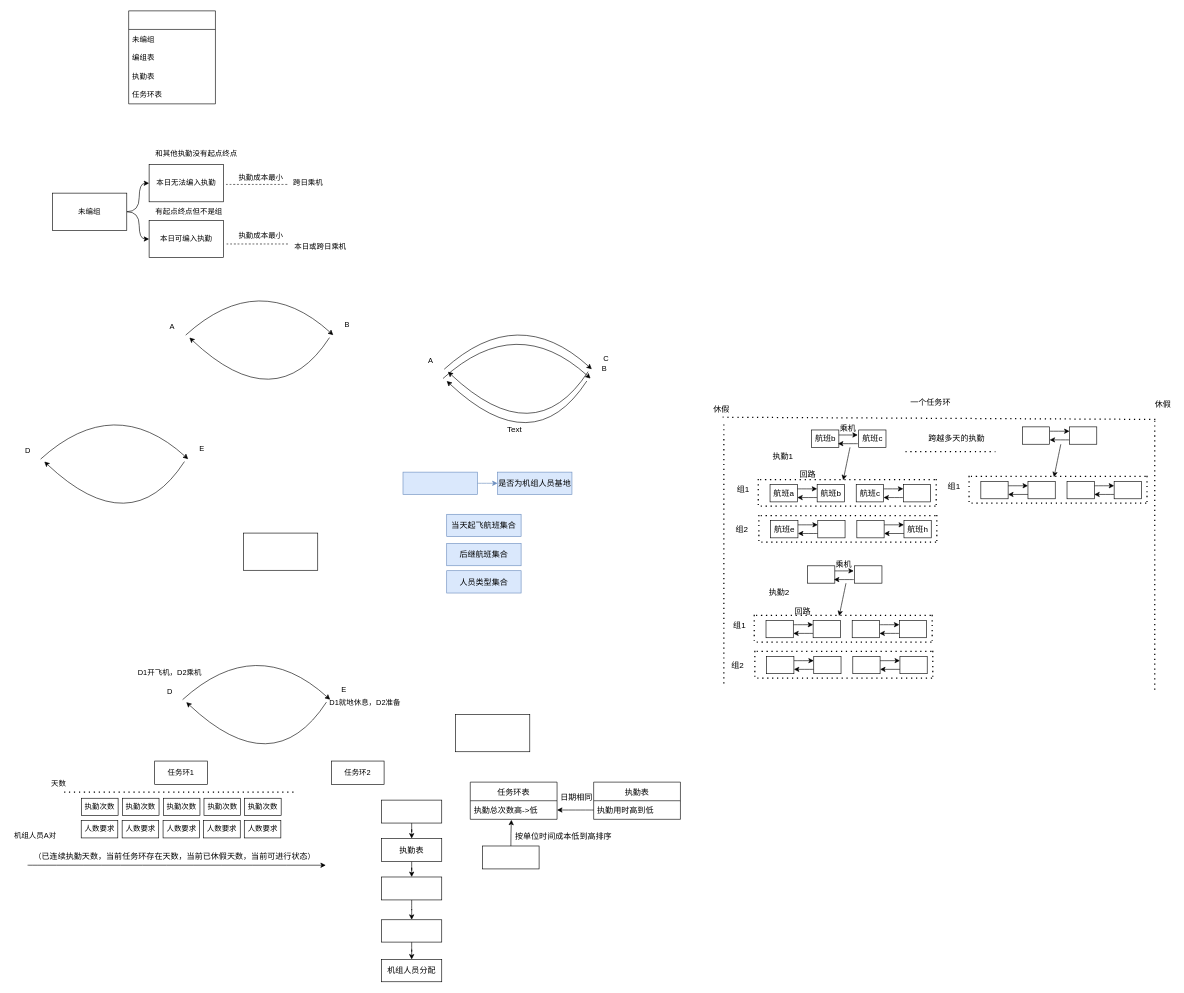
Image size: 1184x993. Some labels were removed from this diagram. The shapes that lost their labels are listed below. From the top down, each one's box as (x1, y1, x2, y2) in pixels, then its label:
(128, 10, 215, 104): D天内每天
(402, 472, 477, 494): 航班的降落机场
(903, 484, 931, 502): 航班d
(817, 520, 845, 538): 航班f
(856, 520, 884, 538): 航班g
(381, 799, 442, 823): 回路表-分组表
(482, 845, 539, 869): 机组人员
(381, 876, 442, 900): 未编组航班表
(381, 919, 442, 942): 任务环分配
